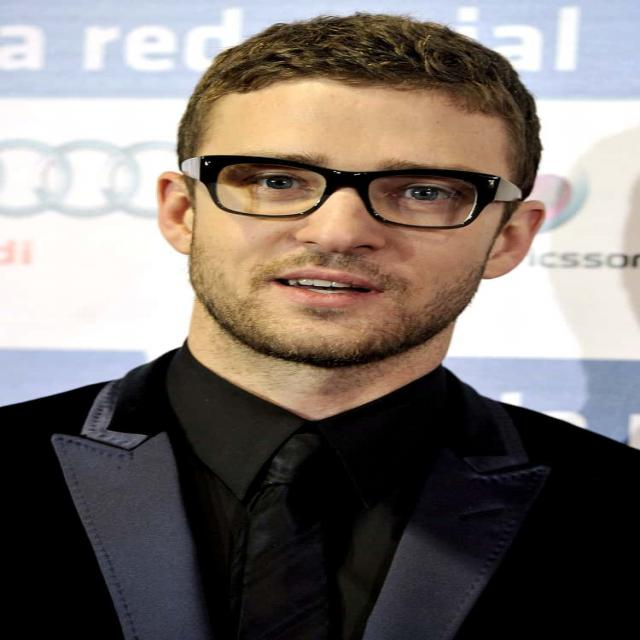Glasses: (180, 149, 526, 234)
